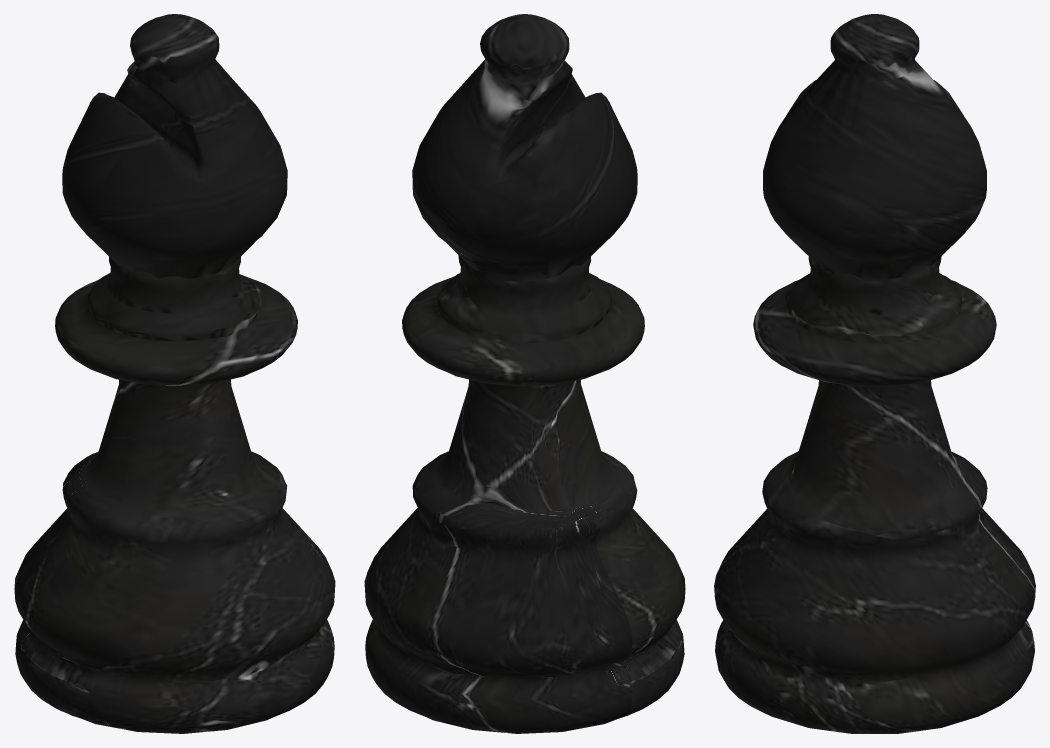
File: black_bishop.glb
3 views of the same model, side by side, from view 1: azimuth 30°, elevation 25°; view 2: azimuth 150°, elevation 25°; view 3: azimuth 270°, elevation 25° (orthographic).
Parts seen in each view (by area): view 1: Circle.008; view 2: Circle.008; view 3: Circle.008.
Boxes of the visible parts, <box> form: Circle.008: <box>14,14,335,733</box>; Circle.008: <box>364,14,685,733</box>; Circle.008: <box>714,14,1035,733</box>.
Bounding box in the file's own units: 1.25 × 2.83 × 1.25.
Materials: 1 (1 with a texture image).
